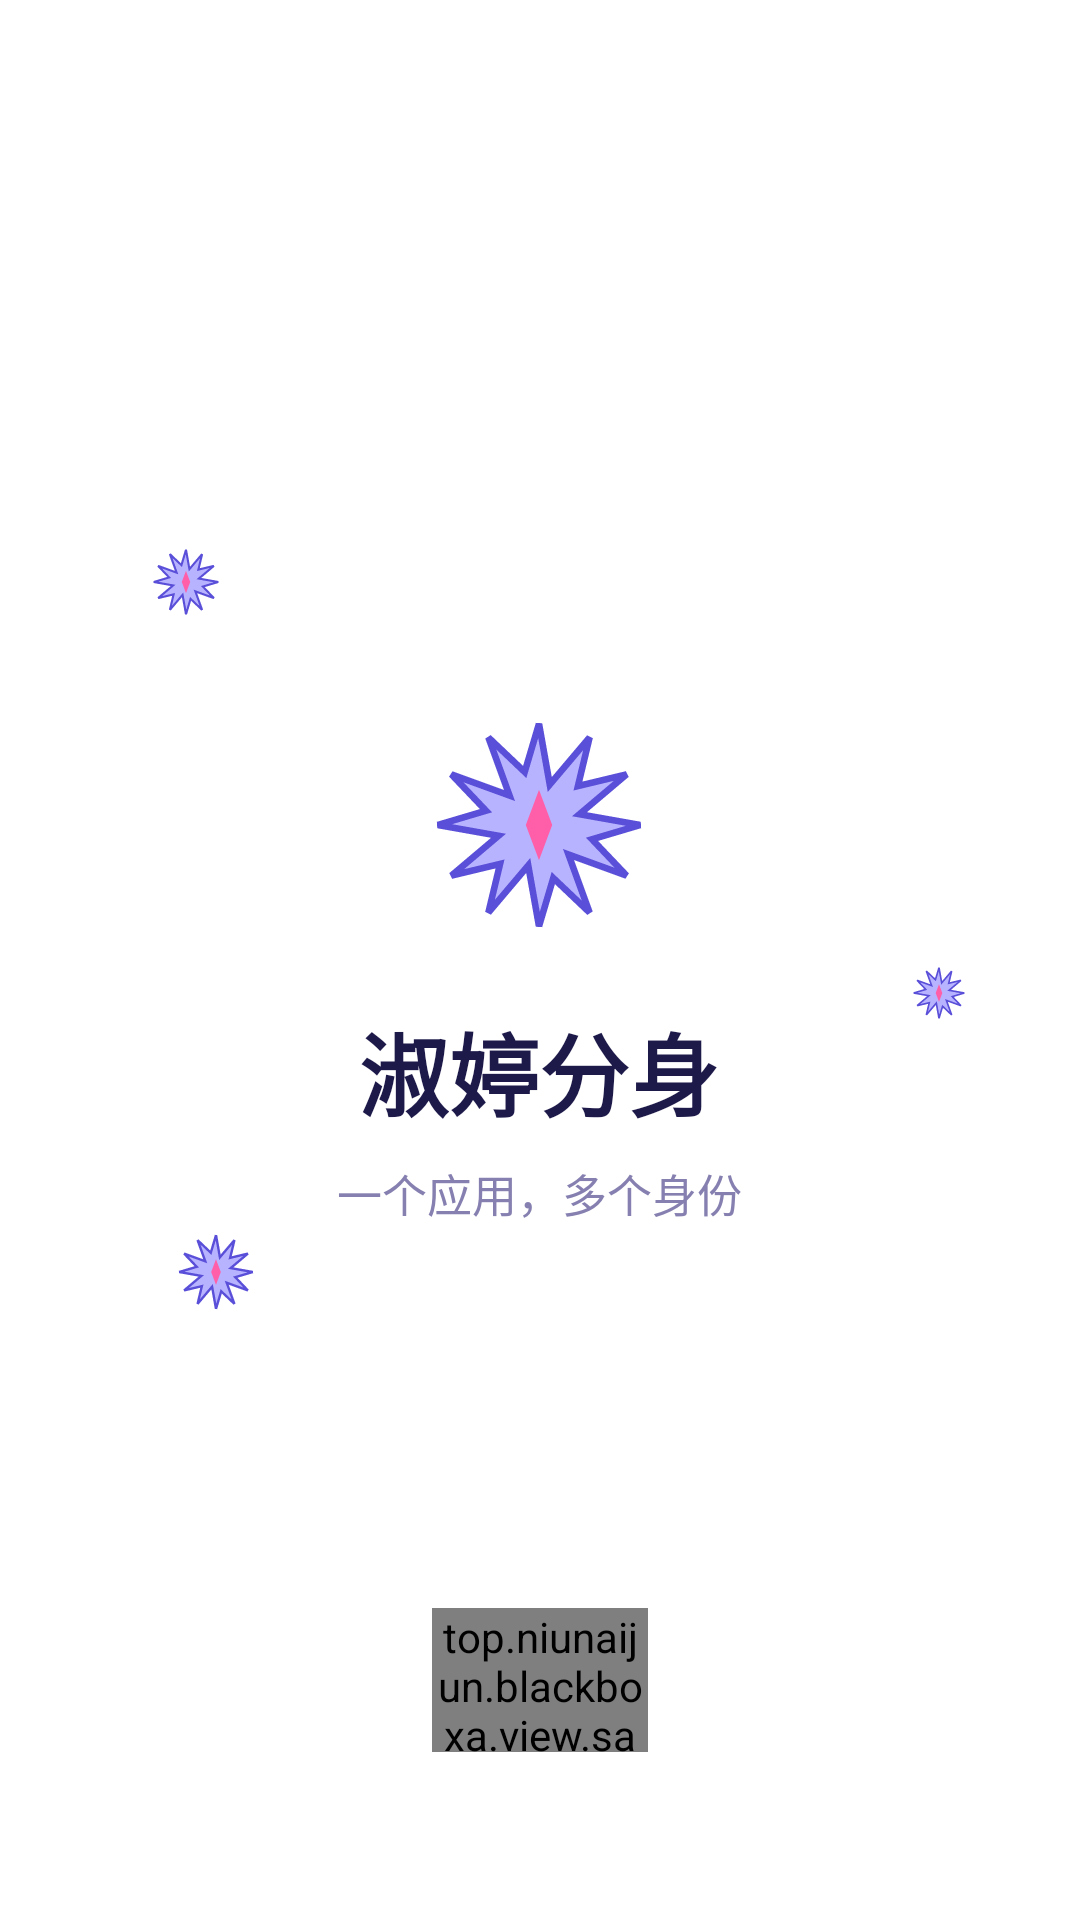

Icons on this 1080x1920 Android screen, each with its box as detection(x1, y1, x2, y2):
sakuga burst: detection(153, 549, 219, 615), detection(437, 723, 641, 927), detection(913, 967, 965, 1019), detection(179, 1235, 253, 1309)
